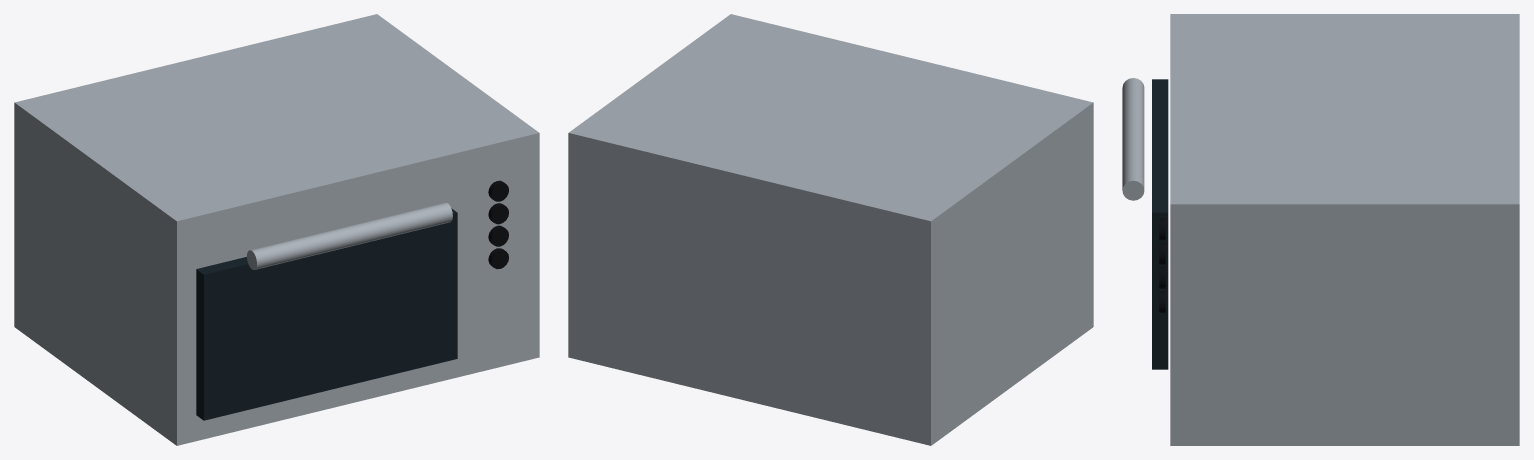
Rendered from Mikrohullamu_suto.obj.
3 renders of one model, left to right at view 1: azimuth 30°, elevation 25°; view 2: azimuth 150°, elevation 25°; view 3: azimuth 270°, elevation 25°, orthographic. The views are drawn at different scales.
Size of the model in its own units: 0.49 by 0.29 by 0.432.
